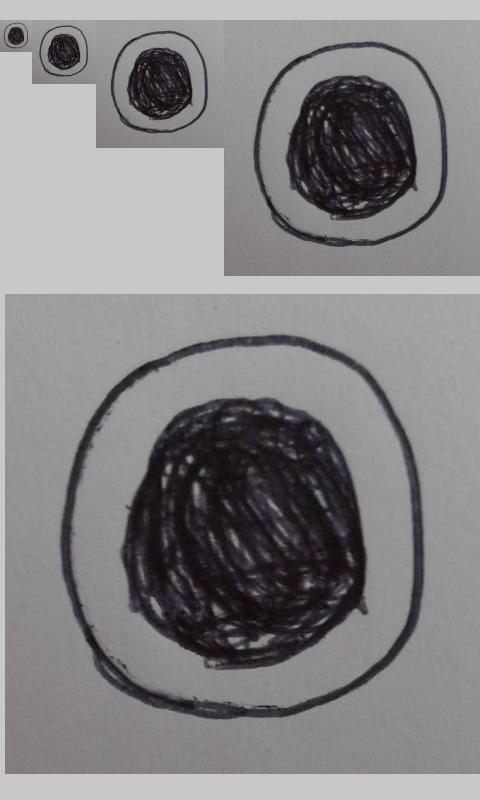radio_button: (58, 333, 426, 723), (252, 40, 449, 248), (109, 30, 210, 135), (38, 24, 89, 78), (3, 22, 29, 49)
